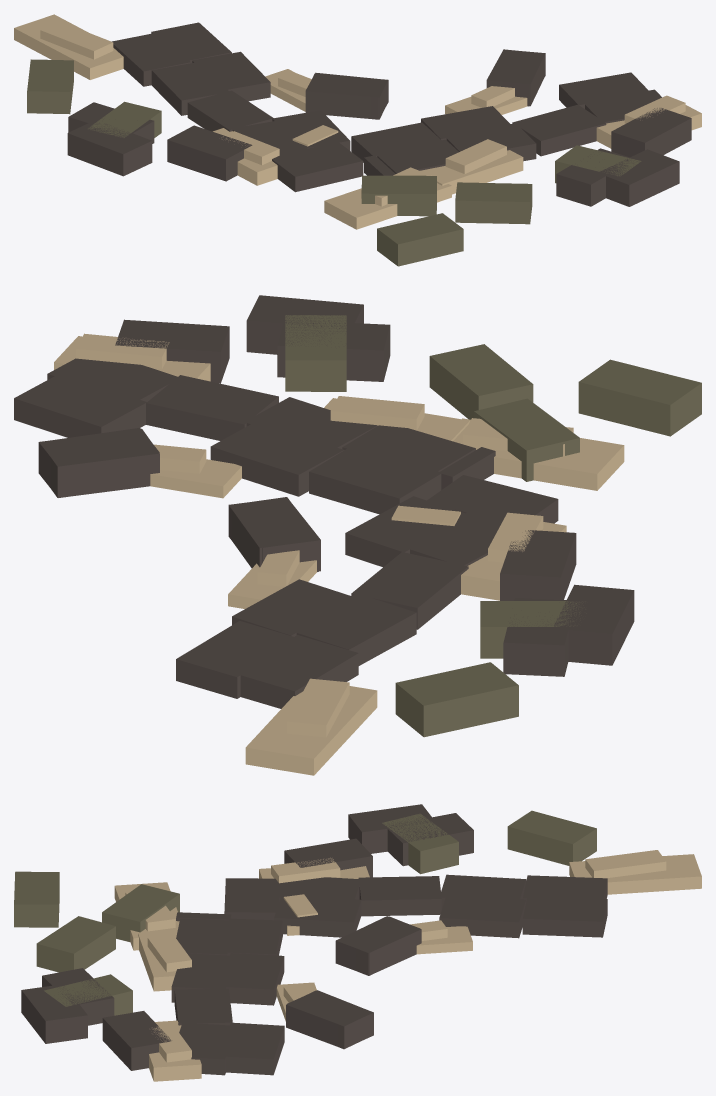
File: SM_SacosEsquina_v1_Talud_e3_Brecha_LOD0.fbx
The picture shows the model from 3 angles, top to bottom: view 1: azimuth 30°, elevation 25°; view 2: azimuth 150°, elevation 25°; view 3: azimuth 270°, elevation 25°; orthographic projection. The views are drawn at different scales.
Parts seen in each view (by area): view 1: SM_sacos_piezas_v7_LOD0; view 2: SM_sacos_piezas_v7_LOD0; view 3: SM_sacos_piezas_v7_LOD0.
Part boxes in pixels (x1=…): SM_sacos_piezas_v7_LOD0: x1=14, y1=14, x2=701, y2=266; SM_sacos_piezas_v7_LOD0: x1=14, y1=295, x2=701, y2=775; SM_sacos_piezas_v7_LOD0: x1=14, y1=804, x2=701, y2=1081.
Bounding box in the file's own units: 6.21 × 0.26 × 7.09.
